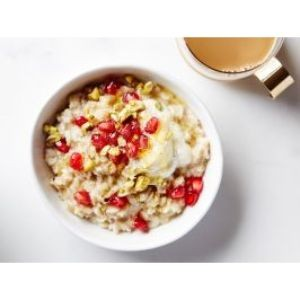oat_brain food: (59, 114, 185, 196)
